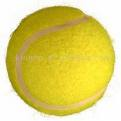tennis ball: (4, 4, 116, 116)
